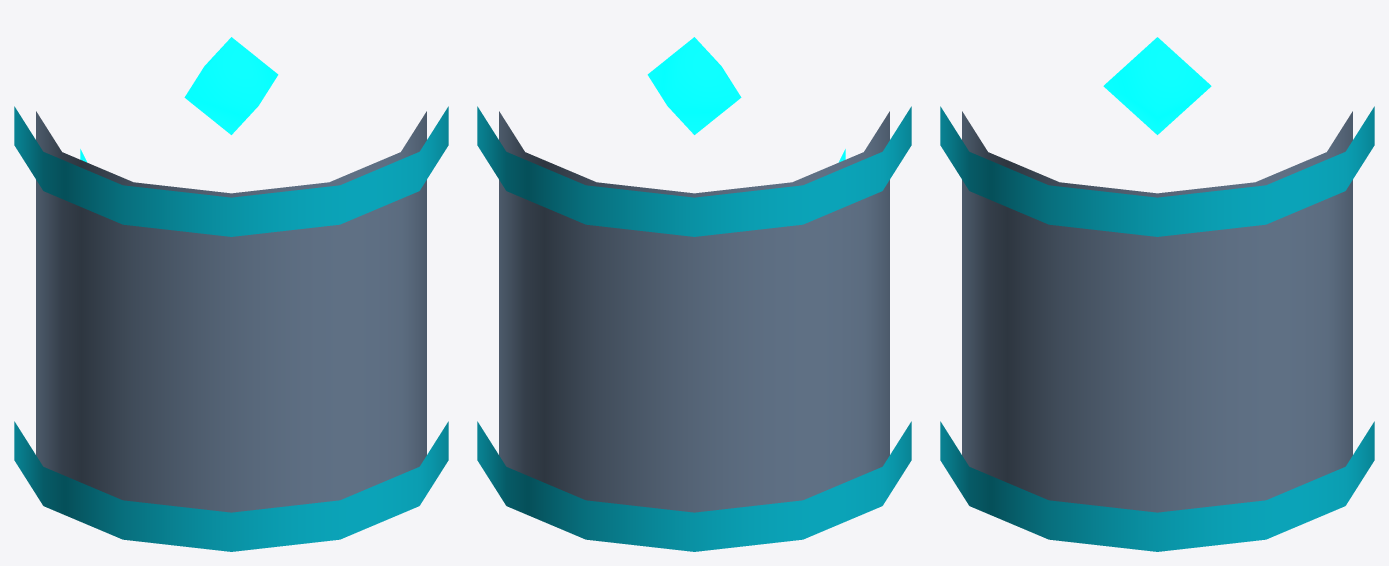
File: condensador_presion.glb
The picture shows the model from 3 angles, left to right: view 1: azimuth 30°, elevation 25°; view 2: azimuth 150°, elevation 25°; view 3: azimuth 270°, elevation 25°; orthographic projection.
Visible parts, largest first — view 1: Base, Accent, Glow; view 2: Base, Accent, Glow; view 3: Base, Accent, Glow.
Part boxes in pixels (bbox=[...]): Base: bbox=[36, 111, 426, 512]; Accent: bbox=[14, 106, 448, 551]; Glow: bbox=[80, 37, 278, 162]; Base: bbox=[499, 111, 889, 512]; Accent: bbox=[477, 106, 911, 551]; Glow: bbox=[647, 37, 845, 162]; Base: bbox=[962, 111, 1352, 512]; Accent: bbox=[940, 106, 1374, 551]; Glow: bbox=[1103, 37, 1211, 134].
Bounding box in the file's own units: 0.4 × 0.43 × 0.4.
